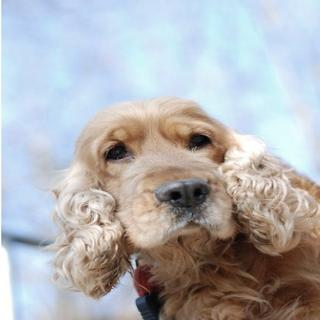dog: (49, 97, 320, 304)
nose: (152, 176, 212, 212)
